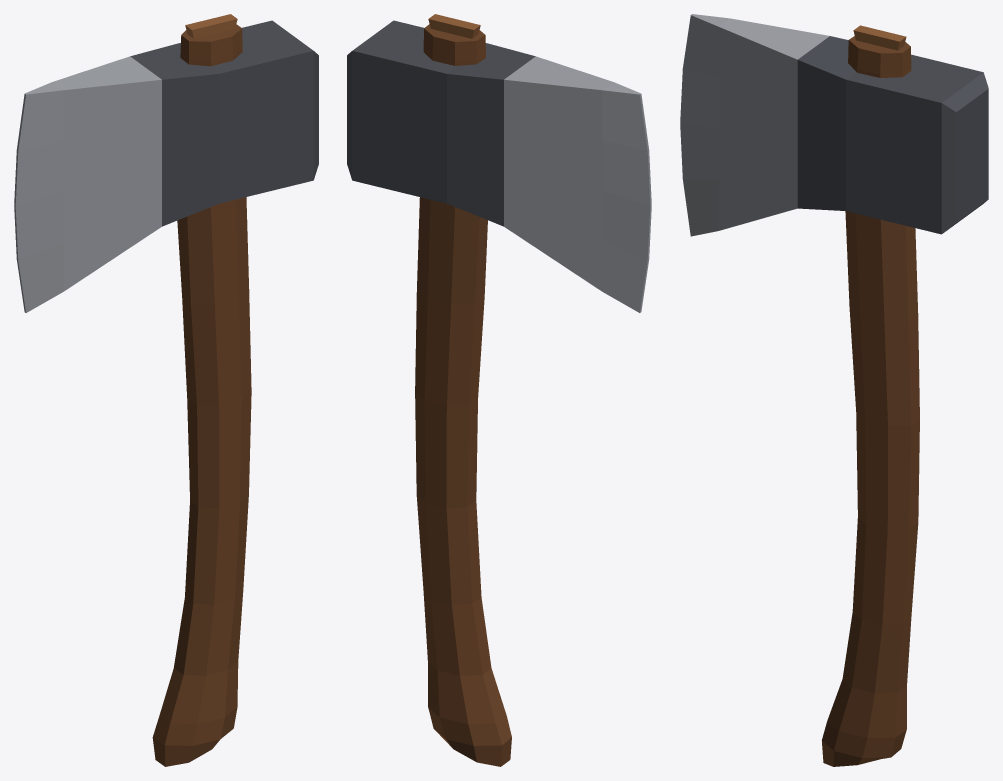
File: prop_axe.glb
3 views of the same model, side by side, from view 1: azimuth 30°, elevation 25°; view 2: azimuth 150°, elevation 25°; view 3: azimuth 330°, elevation 25° (orthographic).
Visible parts, largest first — view 1: hakbijl; view 2: hakbijl; view 3: hakbijl.
Boxes of the visible parts, bbox=[...] form: hakbijl: bbox=[14, 14, 318, 766]; hakbijl: bbox=[347, 14, 651, 766]; hakbijl: bbox=[680, 14, 988, 766].
Bounding box in the file's own units: 0.441 × 1.07 × 0.11.
1 material, 1 textured.
